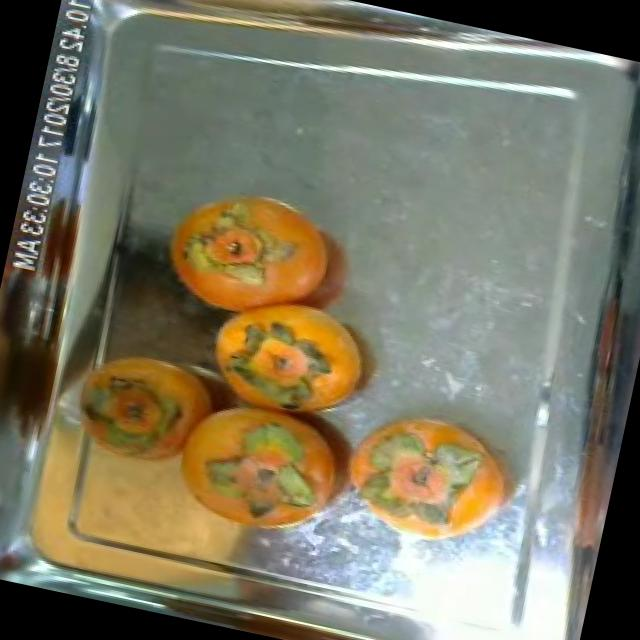Fruit: (142, 162, 360, 336), (66, 228, 263, 416), (426, 435, 540, 558)
